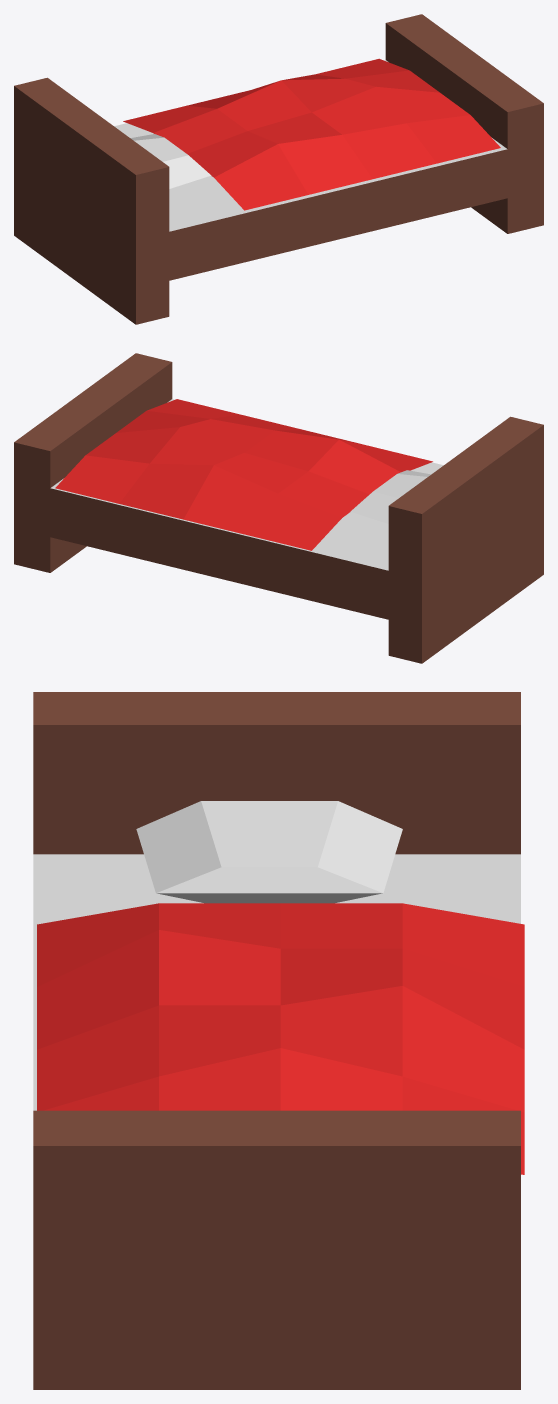
Rendered from bed.fbx.
3 views of the same model, one above another, from view 1: azimuth 30°, elevation 25°; view 2: azimuth 150°, elevation 25°; view 3: azimuth 270°, elevation 25° (orthographic). The views are drawn at different scales.
Parts seen in each view (by area): view 1: Cube; view 2: Cube; view 3: Cube.
Part boxes in pixels (x1,y1,x2,y2): Cube: [14, 14, 543, 324]; Cube: [14, 353, 543, 663]; Cube: [33, 692, 524, 1389].
Size of the model in its own units: 386 by 136 by 201.
